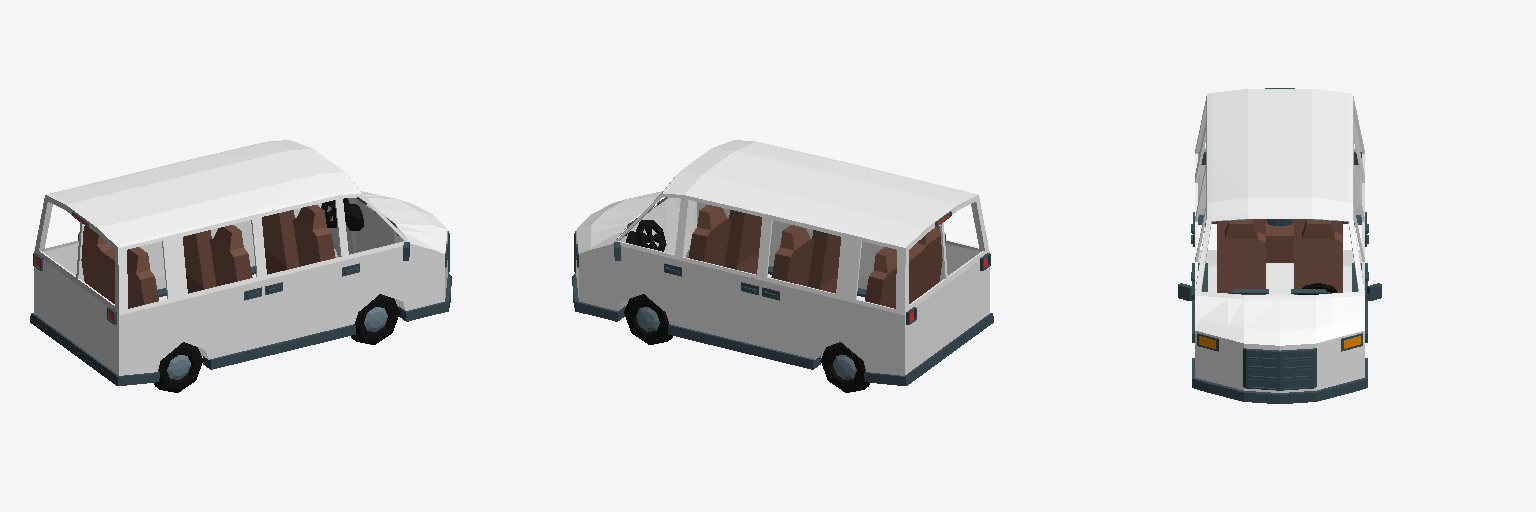
The model's file is Van_01.obj.
3 views of the same model, side by side, from view 1: azimuth 30°, elevation 25°; view 2: azimuth 150°, elevation 25°; view 3: azimuth 270°, elevation 25° (orthographic).
Parts seen in each view (by area): view 1: Circle.006_Circle; view 2: Circle.006_Circle; view 3: Circle.006_Circle.
Boxes of the visible parts, x1=… form: Circle.006_Circle: x1=30, y1=140, x2=451, y2=392; Circle.006_Circle: x1=572, y1=140, x2=993, y2=392; Circle.006_Circle: x1=1178, y1=88, x2=1381, y2=403.
Size of the model in its own units: 23.38 by 10.07 by 11.36.